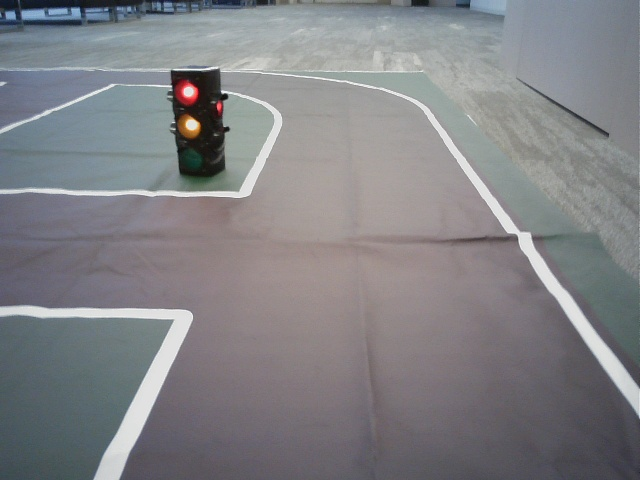red: (172, 75, 208, 172)
